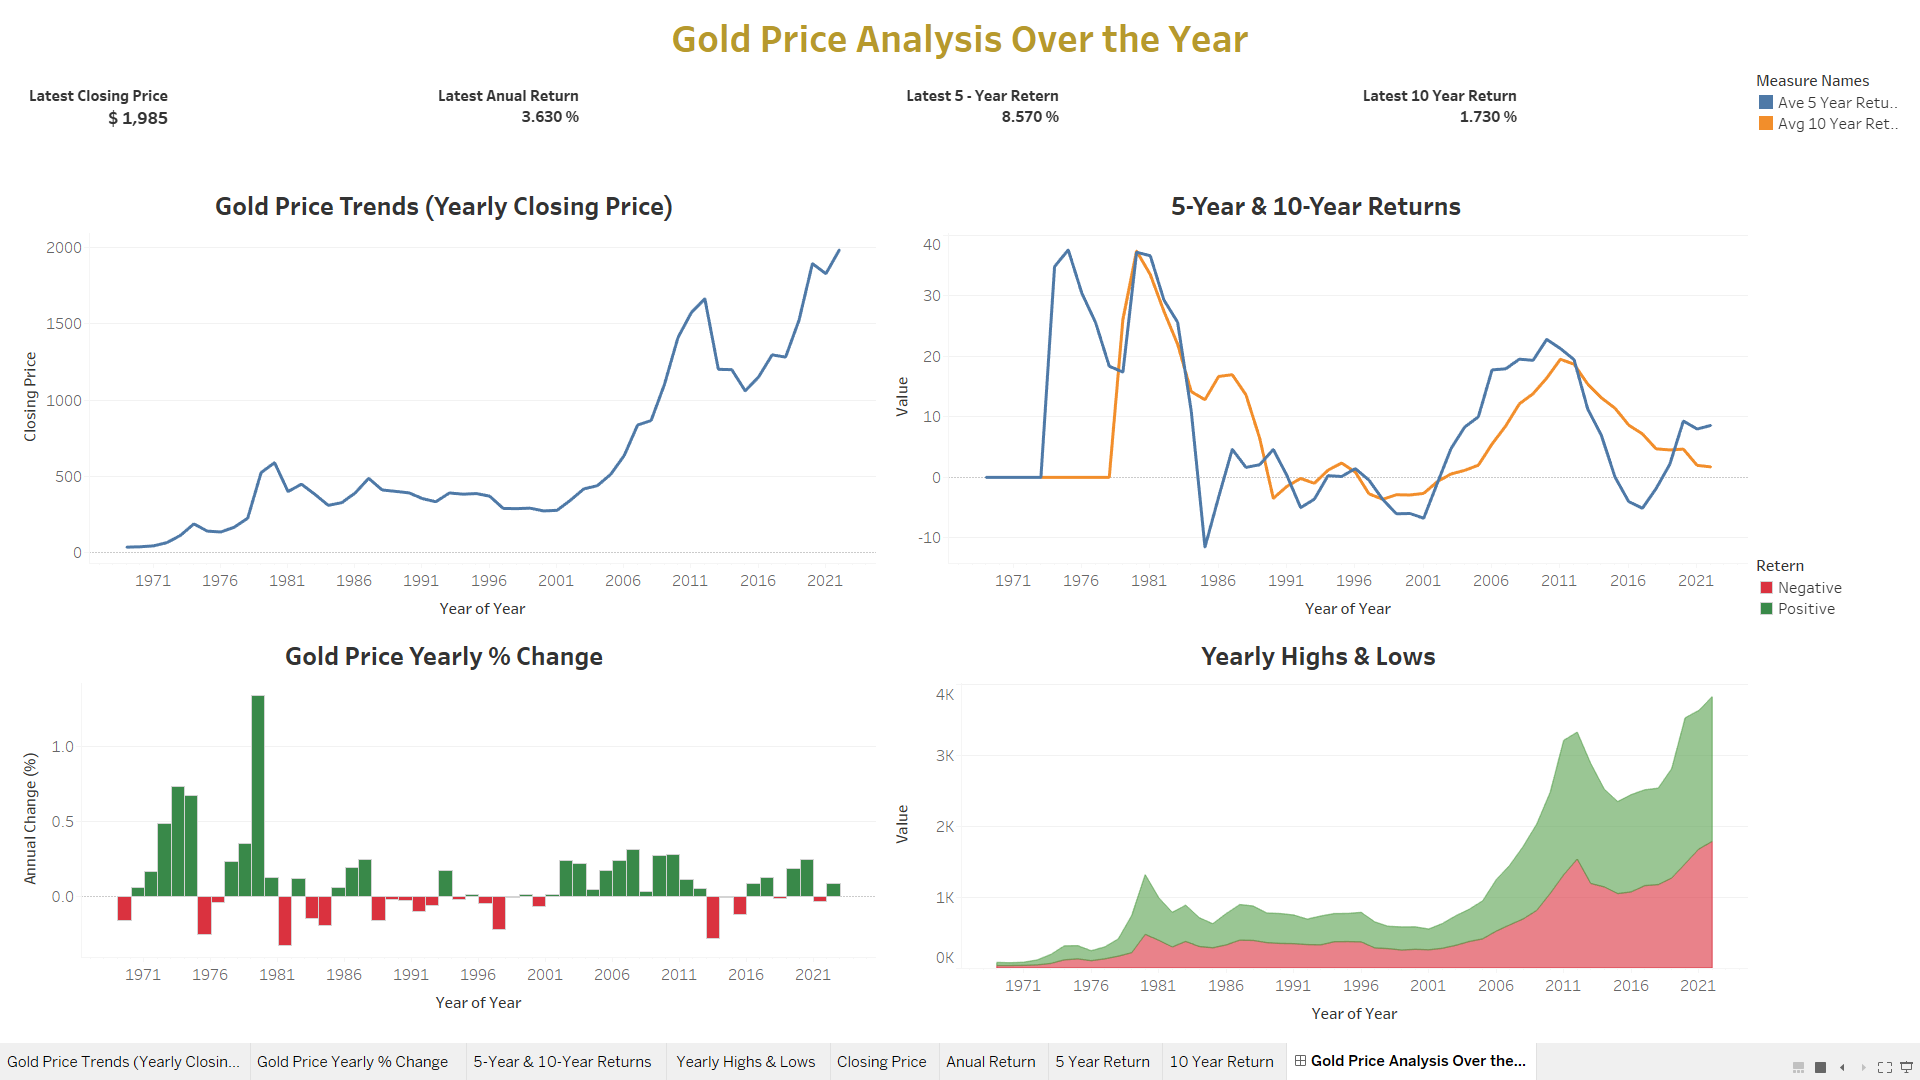

The dashboard page shown, as its layout file describes it:
{"tool":"tableau","page":{"name":"Gold Price Analysis Over the Year","canvas":[1000,1000],"units":"permille","ordinal":0},"visuals":[{"type":"title","box":[4.8,9.4,990.3,68.2]},{"type":"worksheet","title":"Closing Price","mark":"Automatic","box":[4.8,77.5,210.4,107]},{"type":"worksheet","title":"Anual Return","mark":"Automatic","box":[215.2,77.5,235.9,107]},{"type":"worksheet","title":"5 Year Return","mark":"Automatic","box":[451.1,77.5,234.8,107]},{"type":"worksheet","title":"10 Year Return","mark":"Automatic","box":[686,77.5,212.6,107]},{"type":"legend","title":"5-Year & 10-Year Returns","param":"[federated.08u7agv0lcr29w161rjbq0sg2w7m].[:Measure Names]","box":[898.6,77.6,96.6,457.1]},{"type":"worksheet","title":"Gold Price Trends (Yearly Closing Price)","mark":"Line","rows":["Closing Price"],"cols":["Year"],"box":[4.8,184.5,446.7,424.1]},{"type":"worksheet","title":"5-Year & 10-Year Returns","mark":"Automatic","cols":["Year"],"box":[451.5,184.5,447.1,424.1]},{"type":"legend","title":"Gold Price Yearly % Change","param":"[federated.08u7agv0lcr29w161rjbq0sg2w7m].[none:Calculation_1709116118186266627:n","box":[898.6,534.7,96.6,455.9]},{"type":"worksheet","title":"Gold Price Yearly % Change","mark":"Bar","rows":["Annual Change (%)"],"cols":["Year"],"box":[4.8,608.6,446.7,382]},{"type":"worksheet","title":" Yearly Highs & Lows","mark":"Area","cols":["Year"],"box":[451.5,608.6,447.1,382]}]}

Visuals, with their boxes on the dashboard's canvas, which has no fixed pixel size, in thousandths of its width and height (x1, y1, x2, y2). These are canvas units, not pixel positions in the 1920x1080 screenshot, which may show the page scaled, cropped or inside an application window:
title: rect(5, 9, 995, 78)
"Closing Price" worksheet: rect(5, 78, 215, 184)
"Anual Return" worksheet: rect(215, 78, 451, 184)
"5 Year Return" worksheet: rect(451, 78, 686, 184)
"10 Year Return" worksheet: rect(686, 78, 899, 184)
"5-Year & 10-Year Returns" legend: rect(899, 78, 995, 535)
"Gold Price Trends (Yearly Closing Price)" worksheet (Line marks): rect(5, 184, 452, 609)
"5-Year & 10-Year Returns" worksheet: rect(452, 184, 899, 609)
"Gold Price Yearly % Change" legend: rect(899, 535, 995, 991)
"Gold Price Yearly % Change" worksheet (Bar marks): rect(5, 609, 452, 991)
" Yearly Highs & Lows" worksheet (Area marks): rect(452, 609, 899, 991)
